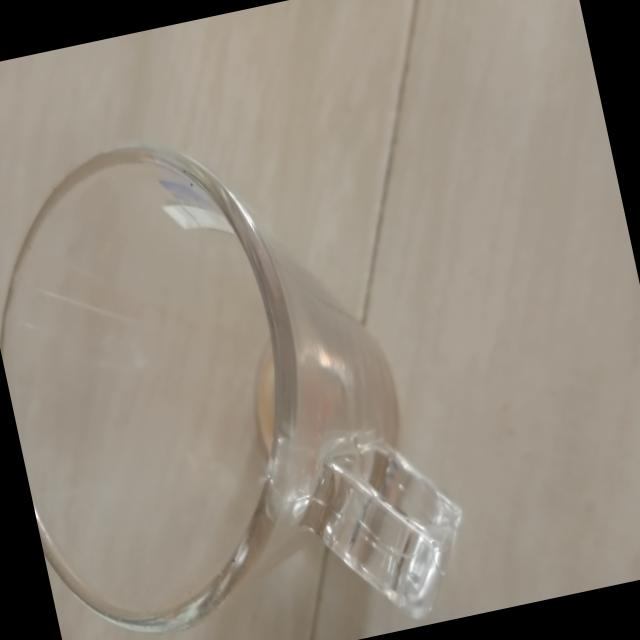glass-VX4N: (0, 96, 482, 640)
